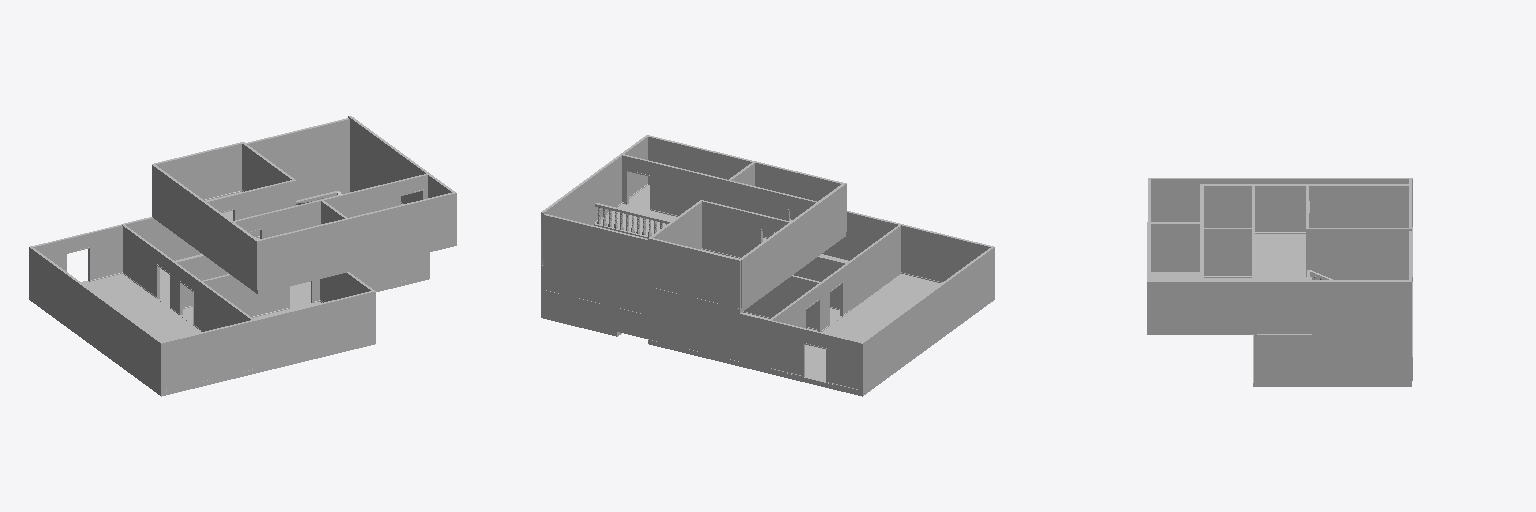
The model's file is CasaHabitacion.obj.
The picture shows the model from 3 angles: view 1: azimuth 30°, elevation 25°; view 2: azimuth 150°, elevation 25°; view 3: azimuth 270°, elevation 25°; orthographic projection.
Visible parts, largest first — view 1: PareNorteSA_Cube.035, ParedOesteCO_Cube.030, ParedOesteO_Cube.017, ParedOesteSA_Cube.037, ParedOesteS_Cube.004, SueloSA_Cube.034, ParedEsteP_Cube.041, ParedEsteH_Cube.005, ParedEsteSA_Cube.036, ParedNorteH_Cube.002, ParedSur2P_Cube.042, ParedEste_O_Cube.016 (+18 smaller); view 2: PareNorteSA_Cube.035, ParedEsteC_Cube.023, ParedEsteP_Cube.041, SueloSA_Cube.034, ParedEsteH_Cube.005, ParedEsteSA_Cube.036, ParedEste_O_Cube.016, ParedOesteSA_Cube.037, ParedOesteH_Cube.003, ParedNorteH_Cube.002, ParedNorteCO_Cube.029, Plane_Plane (+18 smaller); view 3: ParedSur2P_Cube.042, ParedSurH_Cube.006, ParedSurP02_Cube.020, ParedNorteH_Cube.002, PareNorteSA_Cube.035, ParedSurP_Cube.008, ParedSurP0_Cube.019, SueloP_Cube.007, ParedNorteP_Cube.009, ParedNorteCO_Cube.029, ParedSurS_Cube.014, ParedSurCO_Cube.031 (+4 smaller).
Boxes of the visible parts, x1,y1,x2,y2 form: PareNorteSA_Cube.035: [29, 246, 163, 391]; ParedOesteCO_Cube.030: [253, 290, 375, 368]; ParedOesteO_Cube.017: [349, 192, 456, 266]; ParedOesteSA_Cube.037: [163, 320, 255, 390]; ParedOesteS_Cube.004: [256, 219, 346, 288]; SueloSA_Cube.034: [29, 274, 252, 396]; ParedEsteP_Cube.041: [246, 118, 349, 182]; ParedEsteH_Cube.005: [152, 142, 244, 200]; ParedEsteSA_Cube.036: [32, 225, 122, 281]; ParedNorteH_Cube.002: [152, 165, 203, 250]; ParedSur2P_Cube.042: [348, 116, 399, 186]; ParedEste_O_Cube.016: [323, 173, 429, 217]; PareNorteSA_Cube.035: [860, 246, 994, 391]; ParedEsteC_Cube.023: [648, 291, 771, 368]; ParedEsteP_Cube.041: [544, 214, 647, 290]; SueloSA_Cube.034: [771, 274, 994, 396]; ParedEsteH_Cube.005: [648, 237, 740, 308]; ParedEsteSA_Cube.036: [768, 320, 860, 390]; ParedEste_O_Cube.016: [620, 154, 726, 216]; ParedOesteSA_Cube.037: [900, 224, 991, 282]; ParedOesteH_Cube.003: [700, 200, 791, 258]; ParedNorteH_Cube.002: [740, 222, 792, 307]; ParedNorteCO_Cube.029: [847, 225, 900, 310]; Plane_Plane: [544, 290, 647, 338]; ParedSur2P_Cube.042: [1312, 280, 1411, 334]; ParedSurH_Cube.006: [1309, 228, 1408, 276]; ParedSurP02_Cube.020: [1312, 335, 1411, 382]; ParedNorteH_Cube.002: [1309, 184, 1409, 227]; PareNorteSA_Cube.035: [1148, 178, 1412, 226]; ParedSurP_Cube.008: [1255, 280, 1311, 329]; ParedSurP0_Cube.019: [1255, 334, 1311, 382]; SueloP_Cube.007: [1253, 234, 1311, 333]; ParedNorteP_Cube.009: [1255, 184, 1305, 233]; ParedNorteCO_Cube.029: [1151, 222, 1199, 271]; ParedSurS_Cube.014: [1200, 228, 1251, 277]; ParedSurCO_Cube.031: [1151, 281, 1199, 329].
Size of the model in its own units: 21.02 by 6.6 by 15.